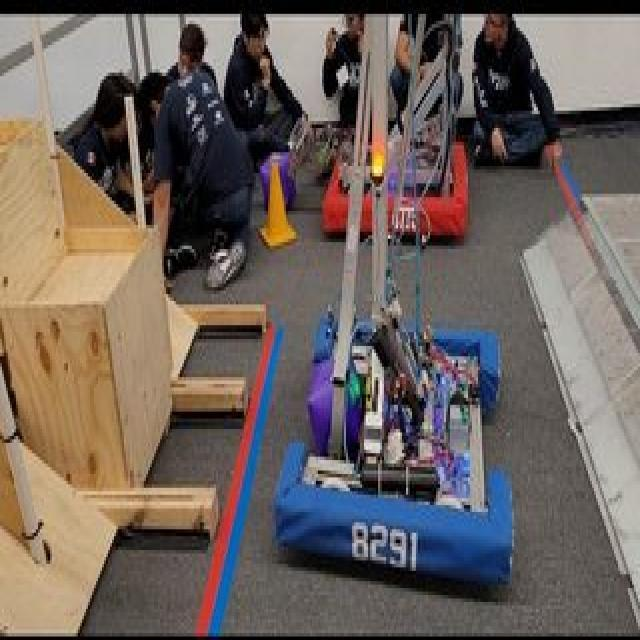robot: (269, 18, 517, 597), (312, 0, 486, 242)
